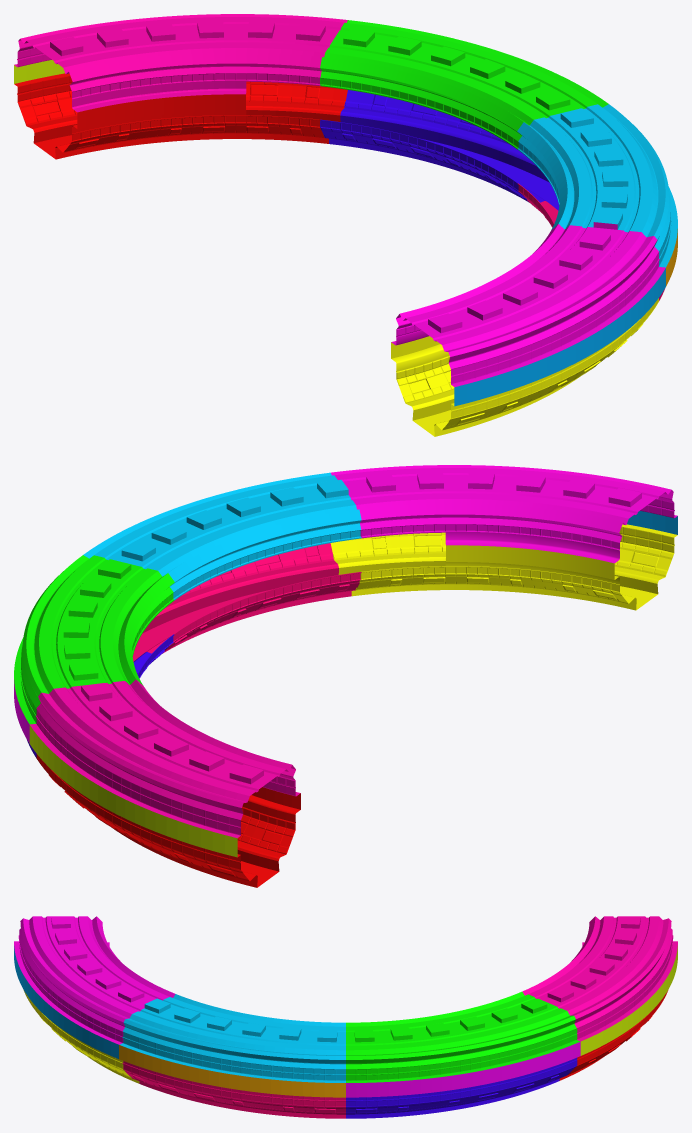
The model's file is PasilloCurvo.FBX.
3 renders of one model, top to bottom at view 1: azimuth 30°, elevation 25°; view 2: azimuth 150°, elevation 25°; view 3: azimuth 270°, elevation 25°, orthographic. The views are drawn at different scales.
Parts seen in each view (by area): view 1: Pasillo00, Pasillo06, Pasillo04, Pasillo07, Pasillo02, Pasillo05, Pasillo01, Cristal, Crsital; view 2: Pasillo00, Pasillo06, Pasillo01, Pasillo02, Pasillo04, Pasillo03, Pasillo07, Crsital, Cristal; view 3: Pasillo04, Pasillo02, Pasillo00, Pasillo06, Pasillo05, Pasillo03, Cristal006, Cristal005, Cristal, Crsital, Pasillo01, Pasillo07.
Part boxes in pixels (box(x1,y1,x2,y2)): Pasillo00: box(391, 222, 665, 387); Pasillo06: box(14, 14, 347, 112); Pasillo04: box(320, 20, 608, 149); Pasillo07: box(14, 73, 347, 159); Pasillo02: box(517, 104, 677, 267); Pasillo05: box(320, 90, 559, 210); Pasillo01: box(391, 298, 658, 436); Cristal: box(454, 268, 665, 406); Crsital: box(14, 60, 64, 83); Pasillo00: box(331, 465, 677, 563); Pasillo06: box(29, 679, 300, 838); Pasillo01: box(330, 524, 677, 610); Pasillo02: box(83, 472, 361, 600); Pasillo04: box(14, 555, 174, 724); Pasillo03: box(132, 543, 361, 661); Pasillo07: box(36, 754, 300, 887); Crsital: box(29, 725, 237, 857); Cristal: box(627, 511, 677, 534); Pasillo04: box(346, 991, 579, 1082); Pasillo02: box(119, 994, 345, 1082); Pasillo00: box(14, 916, 175, 1044); Pasillo06: box(522, 916, 677, 1041); Pasillo05: box(346, 1057, 577, 1118); Pasillo03: box(122, 1061, 345, 1118); Cristal006: box(346, 1041, 580, 1097); Cristal005: box(119, 1045, 345, 1097); Cristal: box(14, 946, 118, 1058); Crsital: box(580, 946, 677, 1055); Pasillo01: box(23, 990, 139, 1083); Pasillo07: box(559, 990, 668, 1080).
Size of the model in its own units: 14.05 by 3.57 by 27.8.
